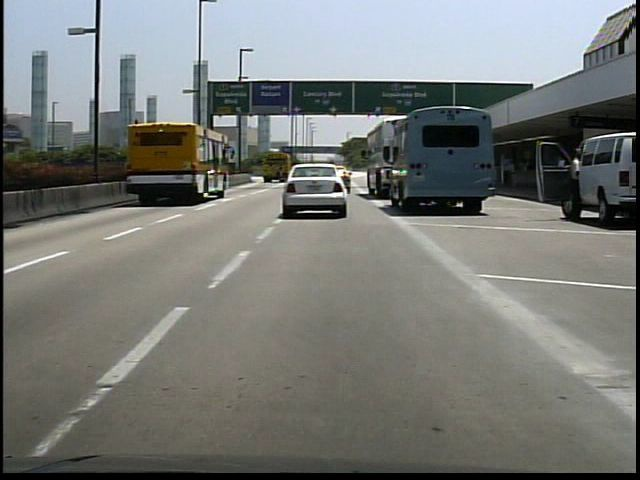person: (566, 139, 584, 225)
